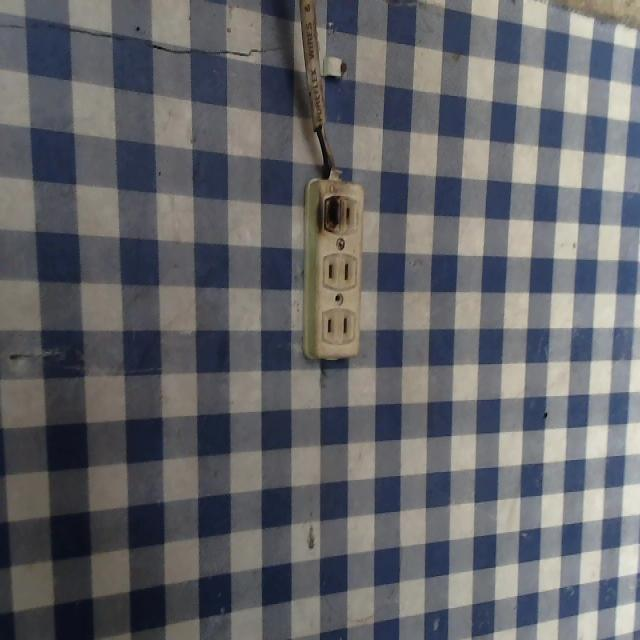-: (314, 189, 343, 236)
